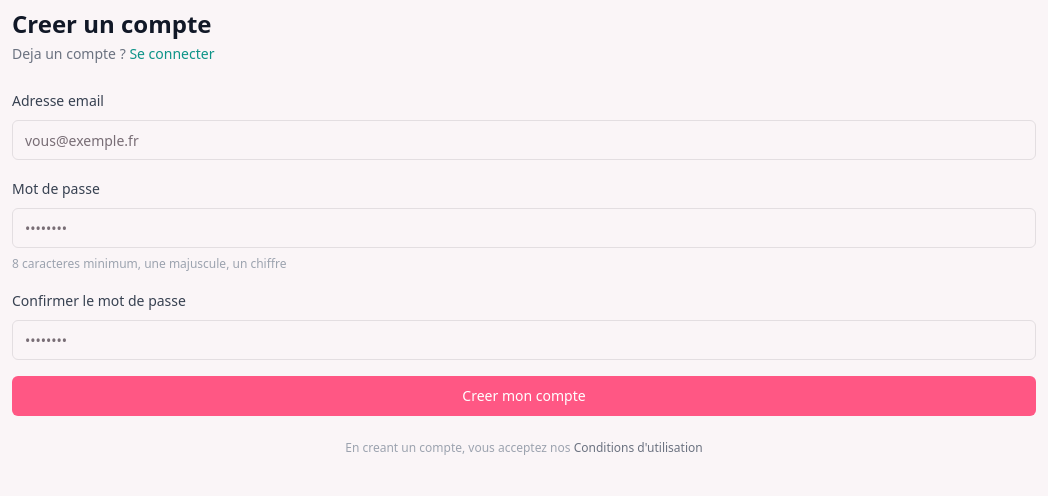
Test: RegisterPage › shows password mismatch error when passwords differ
This screenshot has width=1048, height=496.
Step 1. Type "test@example.com" into the field labelled "Adresse email" → point(524, 140), box [12,120,1036,160]
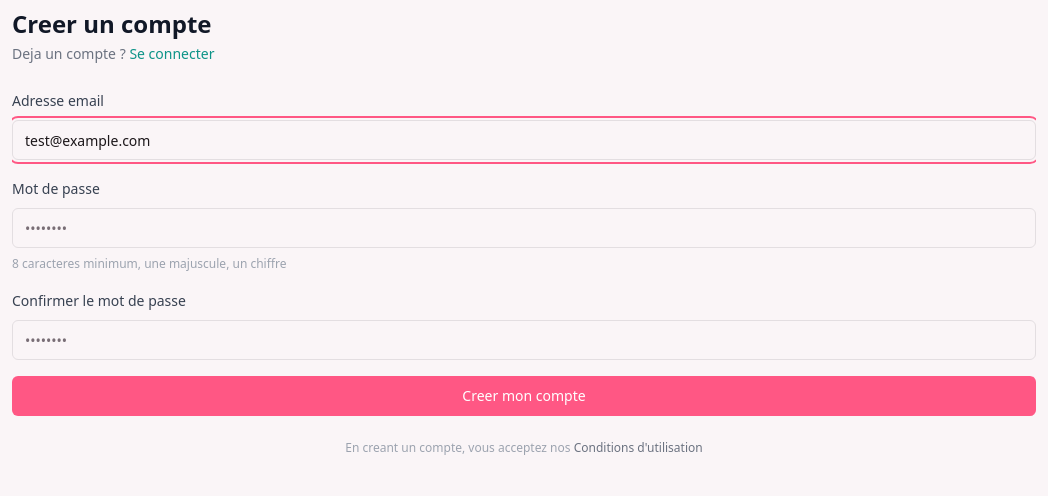
Step 2. Type "MyPassword1" into the password field labelled "Mot de passe" → point(524, 228), box [12,208,1036,248]
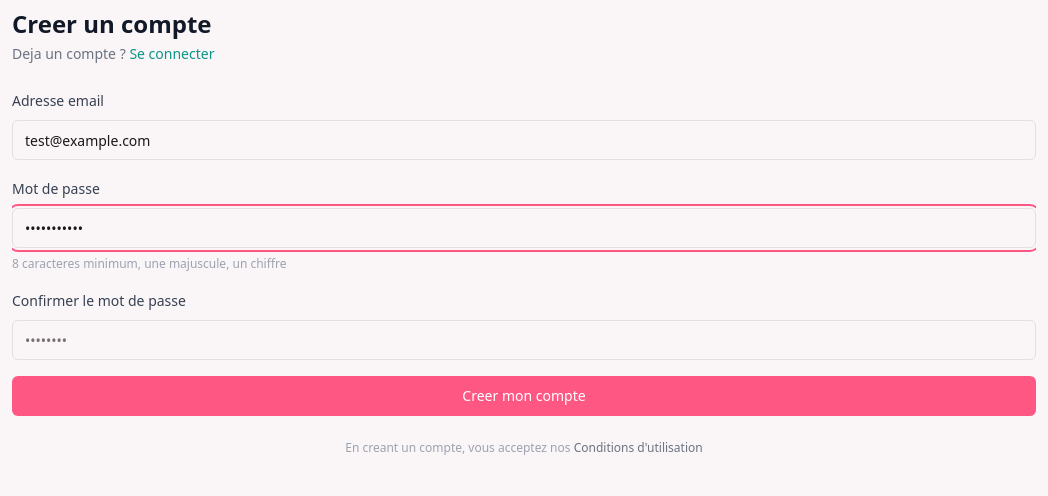
Step 3. Type "DifferentPass1" into the password field labelled "Confirmer le mot de passe" → point(524, 340), box [12,320,1036,360]
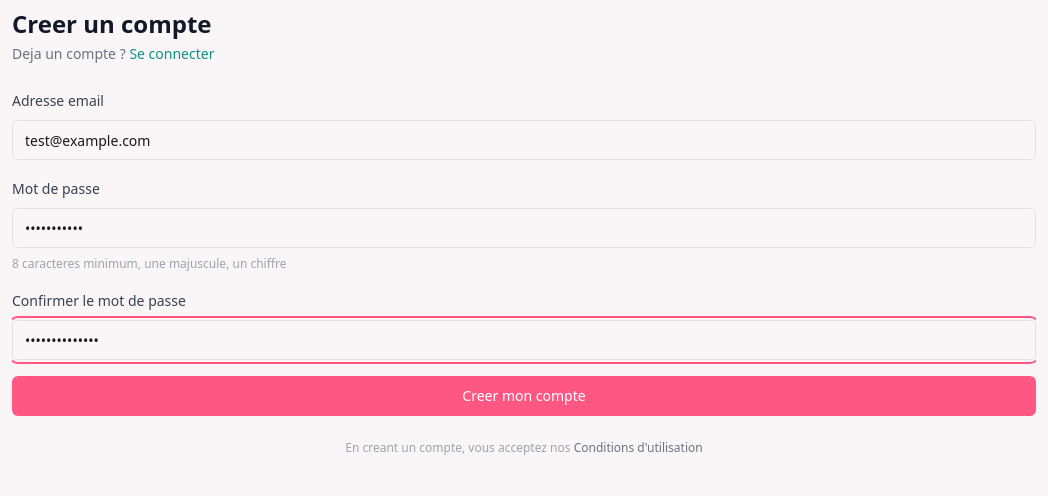
Step 4. Click the button "Creer mon compte" → point(524, 396), box [12,376,1036,416]
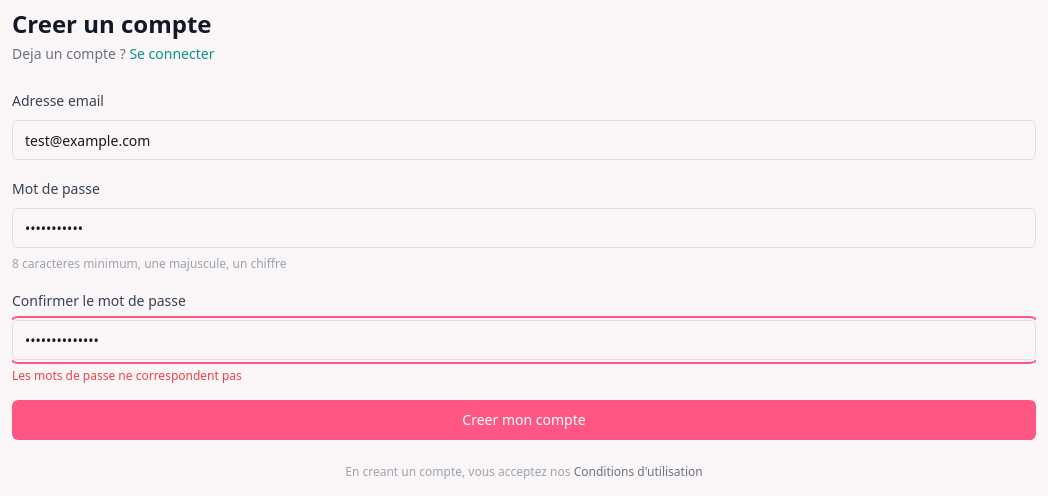
Expected: the text "Les mots de passe ne correspondent pas" is shown, [12,367,242,384]
